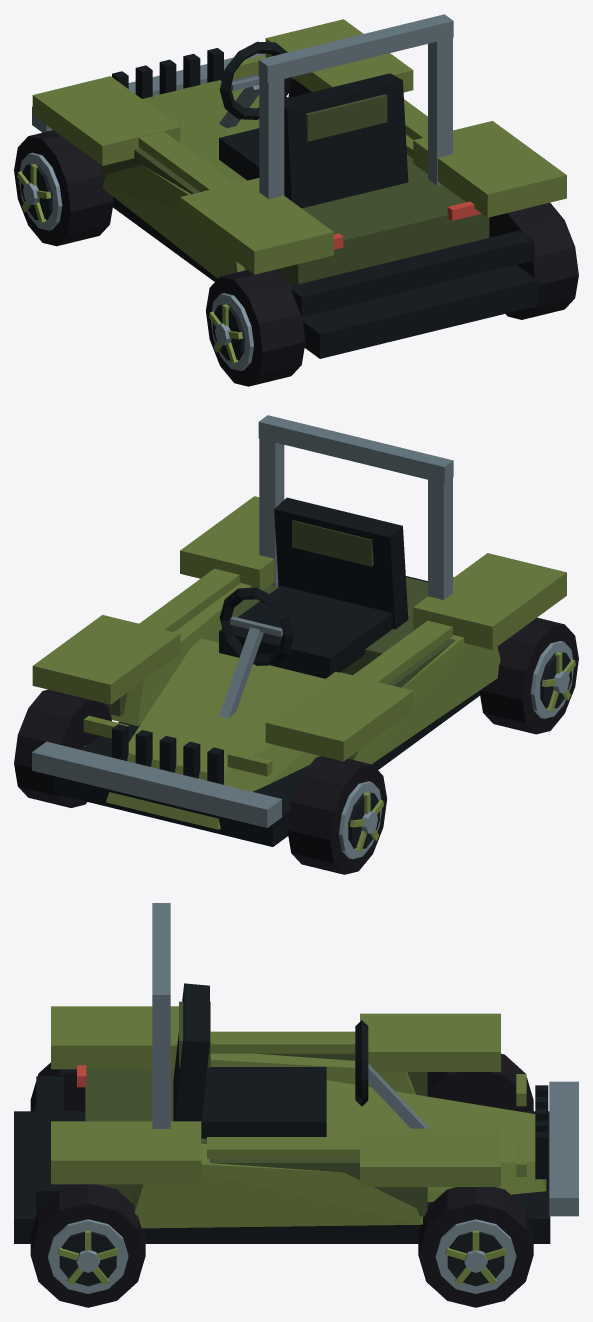
Rendered from kart.glb.
3 renders of one model, top to bottom at view 1: azimuth 30°, elevation 25°; view 2: azimuth 150°, elevation 25°; view 3: azimuth 270°, elevation 25°, orthographic.
Visible parts, largest first — view 1: chassis, wheel-rear-left, wheel-front-left, wheel-rear-right; view 2: chassis, wheel-front-left, wheel-rear-left, wheel-front-right; view 3: chassis, wheel-rear-right, wheel-front-right, wheel-front-left, wheel-rear-left.
Part boxes in pixels (<box>): chassis: <box>32,14,566,358</box>; wheel-rear-left: <box>206,269,305,386</box>; wheel-front-left: <box>14,130,113,246</box>; wheel-rear-right: <box>489,202,578,319</box>; chassis: <box>32,415,566,846</box>; wheel-front-left: <box>287,756,386,874</box>; wheel-rear-left: <box>479,617,578,734</box>; wheel-front-right: <box>14,689,111,807</box>; chassis: <box>14,903,578,1243</box>; wheel-rear-right: <box>30,1184,145,1307</box>; wheel-front-right: <box>418,1187,533,1307</box>; wheel-front-left: <box>427,1053,533,1111</box>; wheel-rear-left: <box>30,1062,85,1111</box>.
Size of the model in its own units: 2.16 by 1.67 by 3.05.
